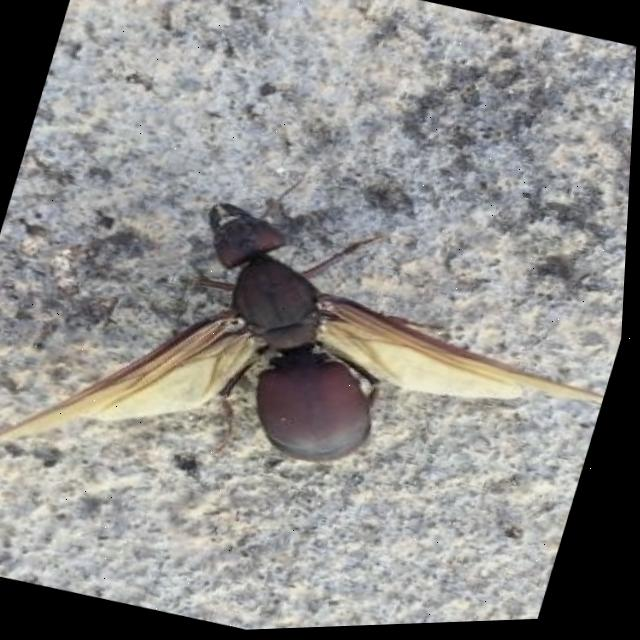Alive-Female-Alate: (0, 103, 635, 609)
